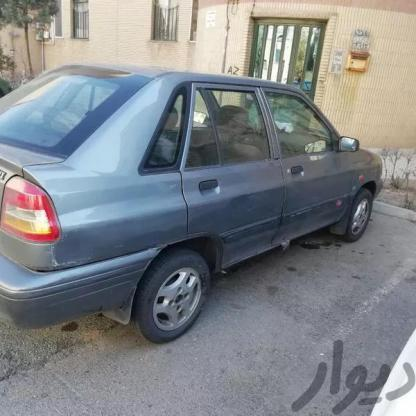Car: (0, 47, 397, 332)
